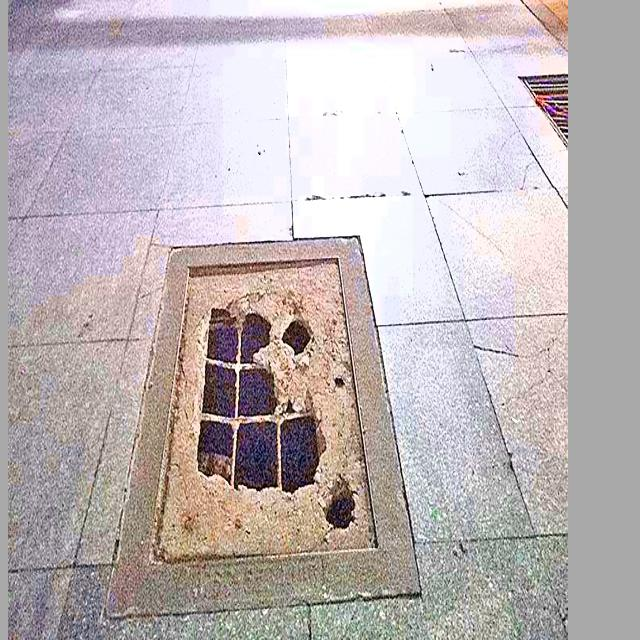broke: (106, 233, 429, 613)
